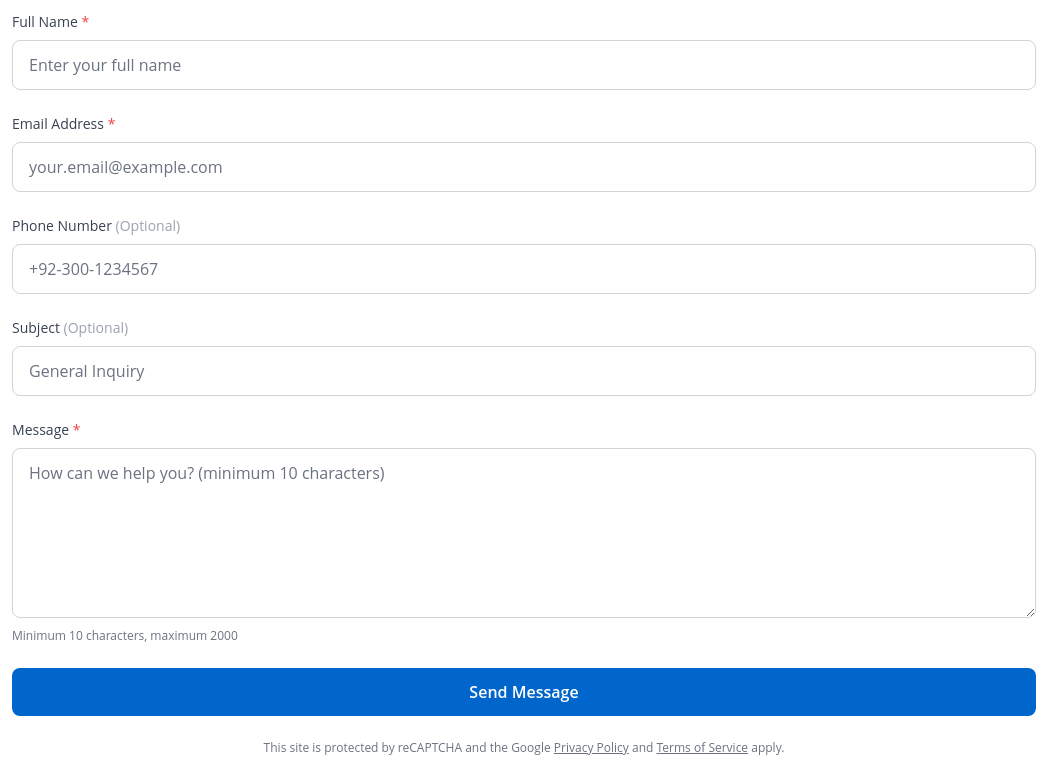
Test case: ContactForm › Form Submission › should show loading state during submission
The width and height of the screenshot is (1048, 780).
Note: Fill and submit
Type "John Doe" into the field labelled "Full Name *" at (524, 65), box [12,40,1036,90]
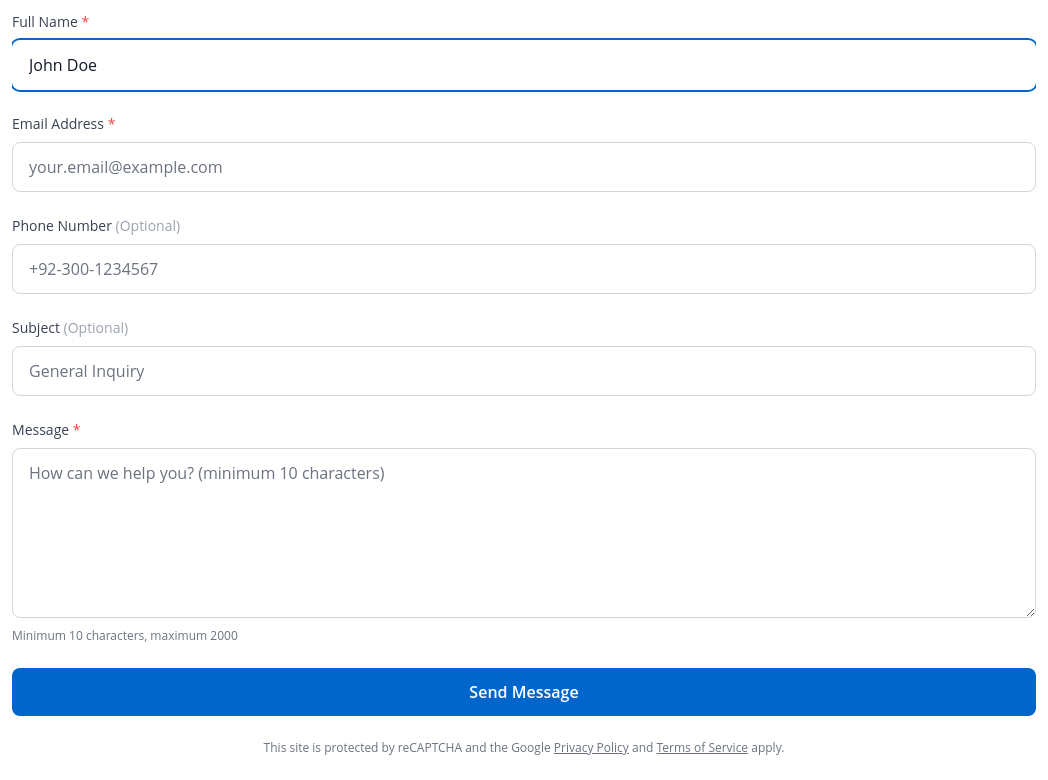
Type "john@example.com" into the field labelled "Email Address *" at (524, 167), box [12,142,1036,192]
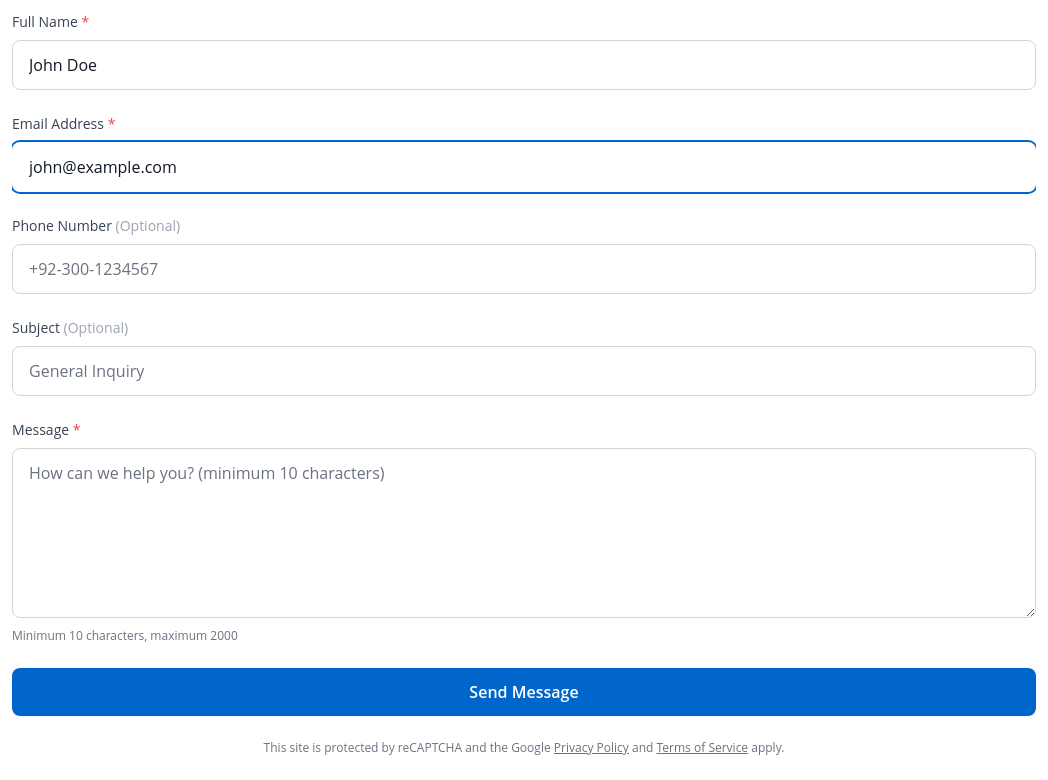
Type "This is a test message for loading state." into the text box labelled "Message *" at (524, 533), box [12,448,1036,618]
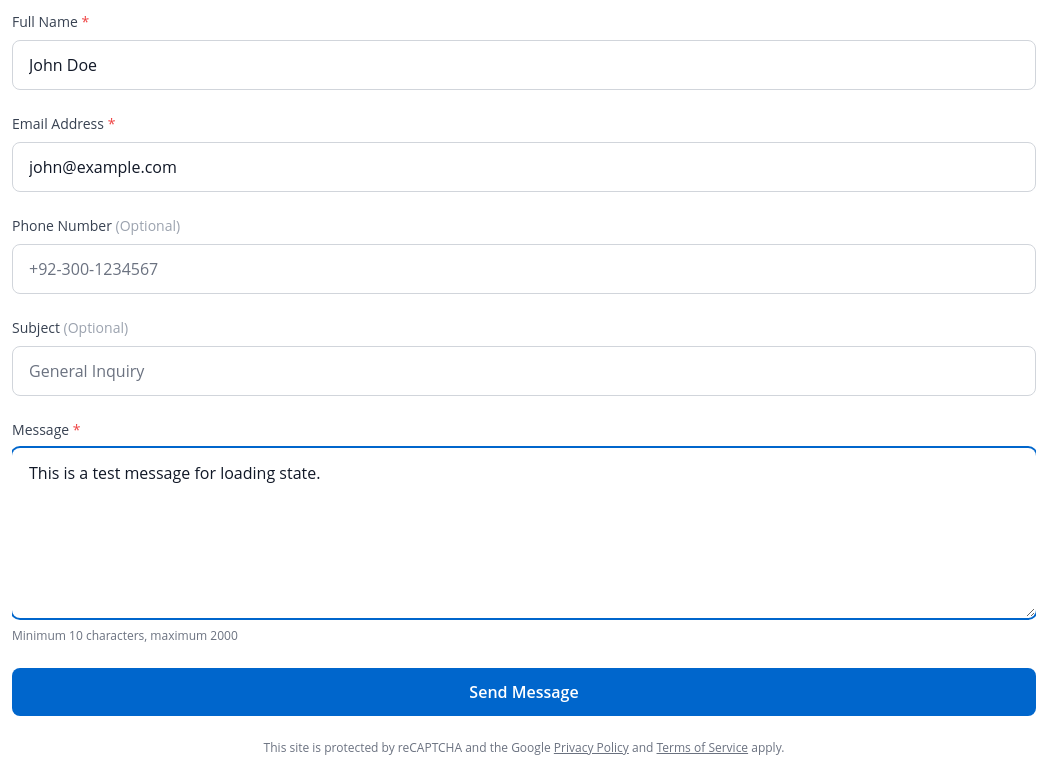
Click the button "Send Message" at (524, 692), box [12,668,1036,716]
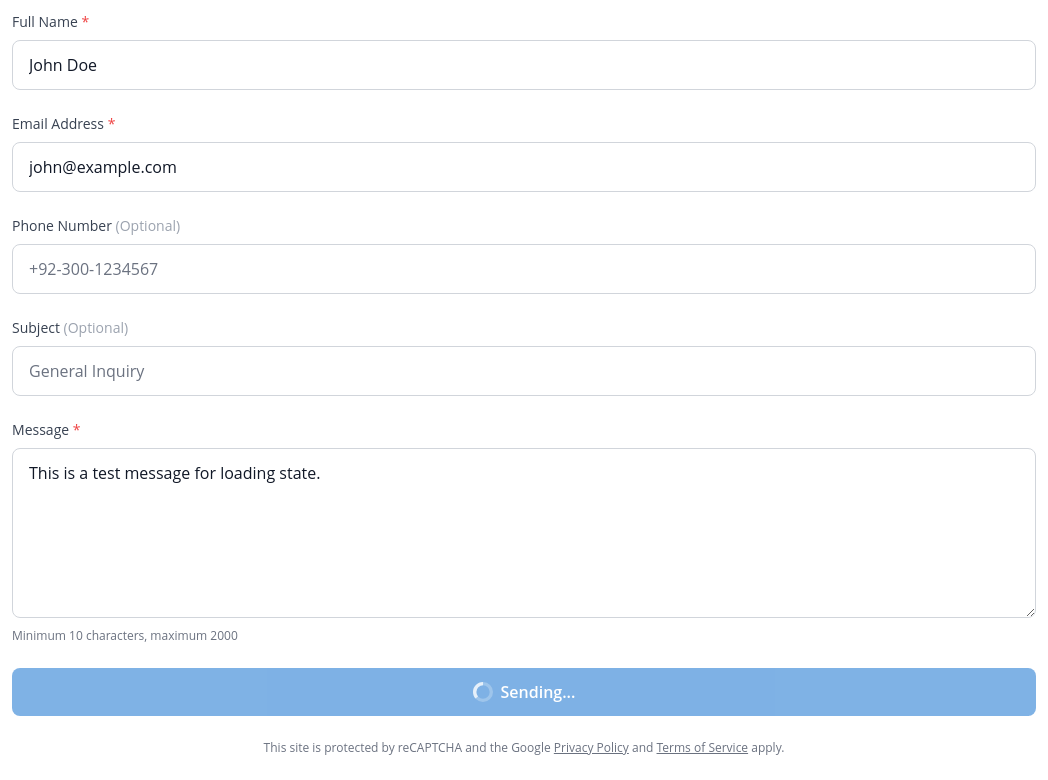
expect the text "Sending..." is shown: met, box [473,681,576,703]
expect the button "Sending..." is disabled: met, box [12,668,1036,716]
